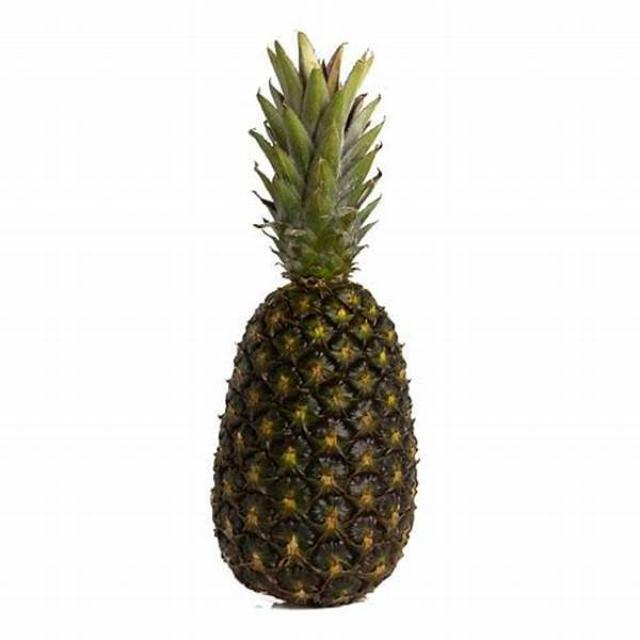Pineapple: (196, 31, 440, 607)
